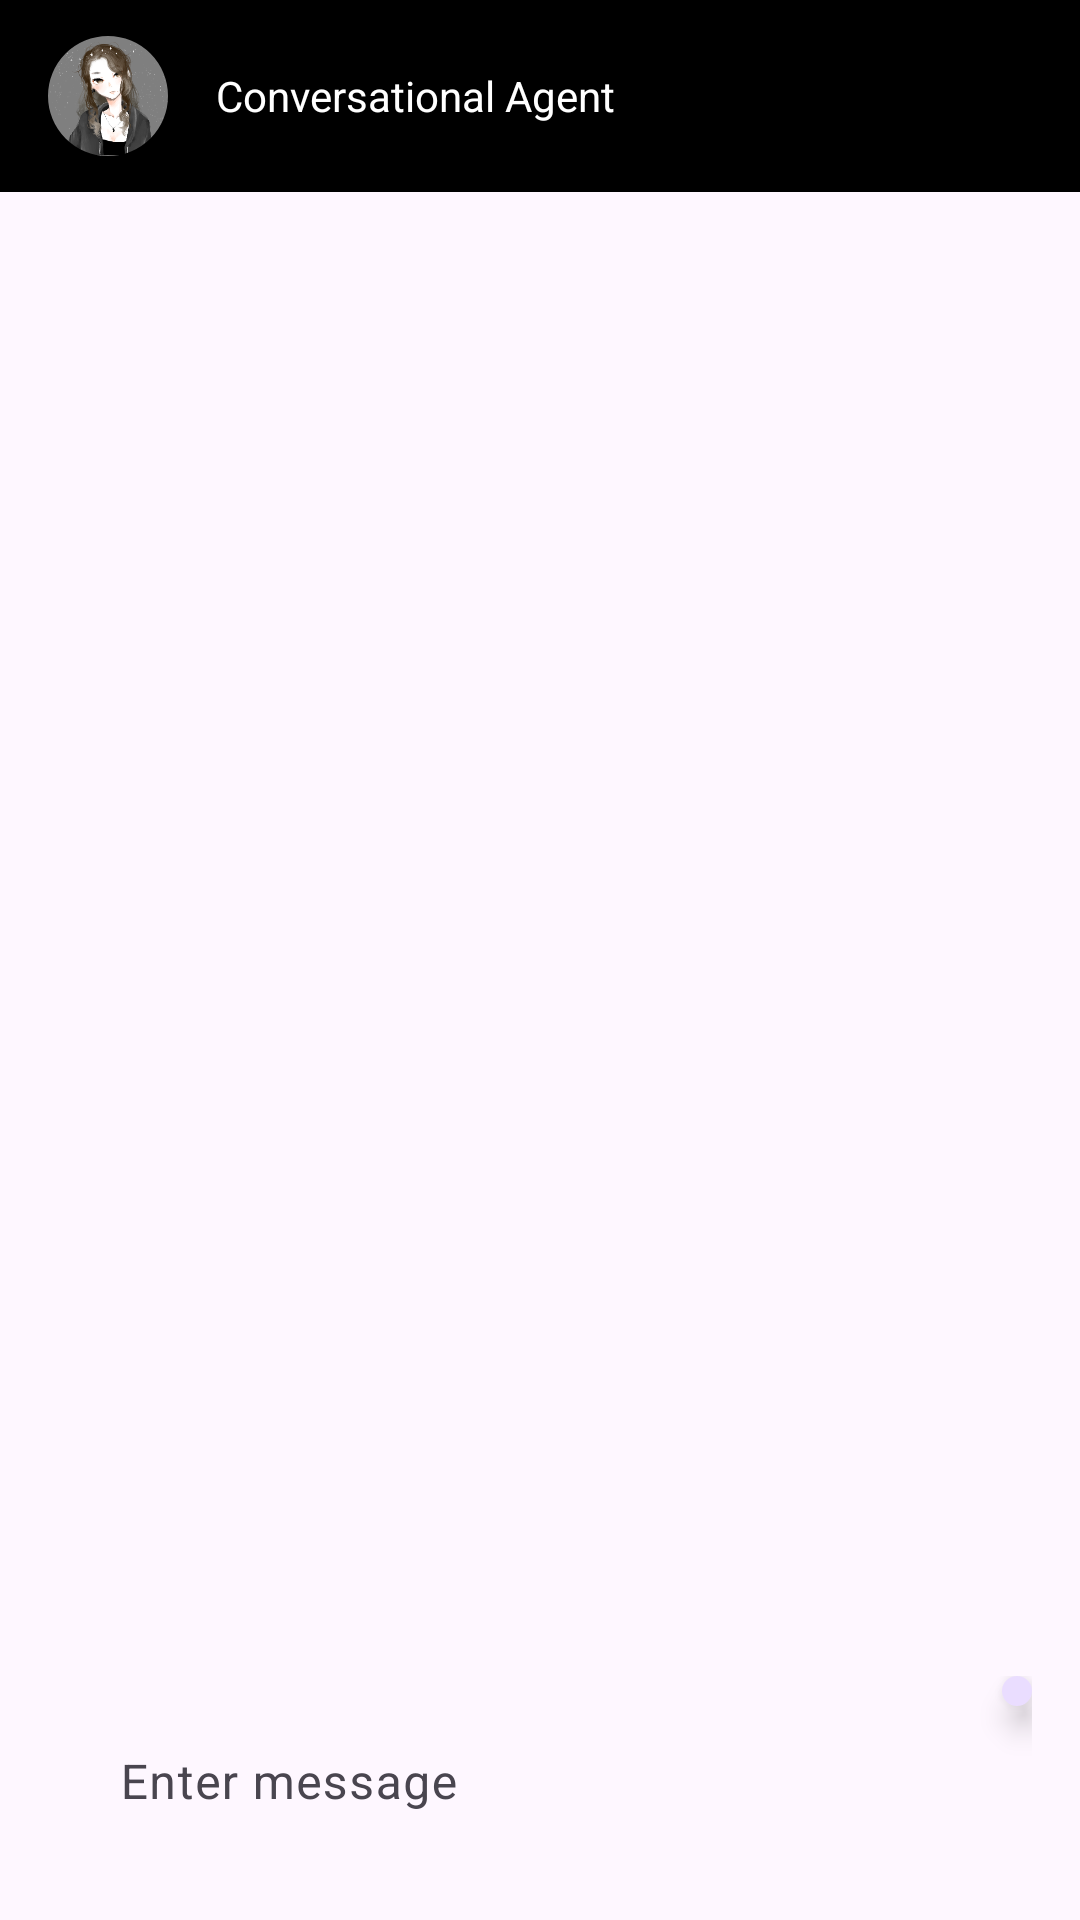

Screen size 1080 × 1920. Icon name, then its center in pixels as (x,y):
Bot Image: (108,96)
